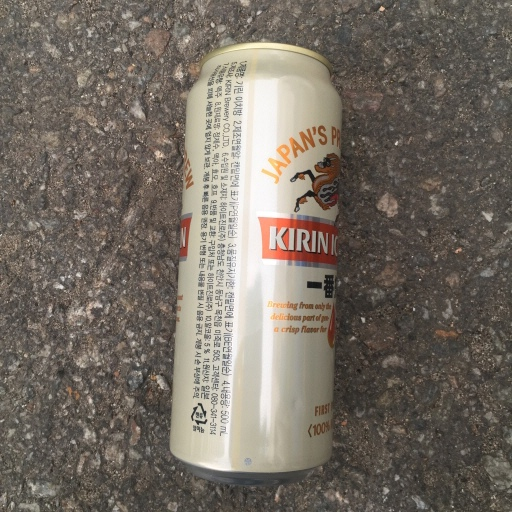Metal_0: (164, 42, 343, 484)
